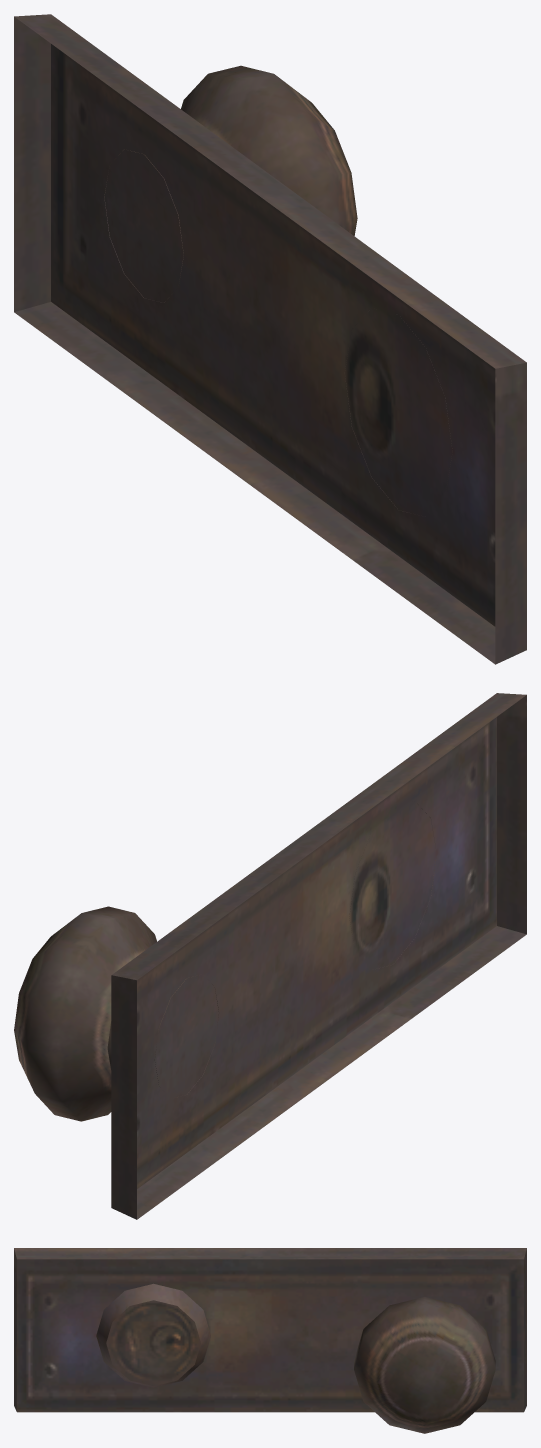
File: p_glo_doorknob1_LOD0.obj
The picture shows the model from 3 angles, top to bottom: view 1: azimuth 30°, elevation 25°; view 2: azimuth 150°, elevation 25°; view 3: azimuth 270°, elevation 25°; orthographic projection. The views are drawn at different scales.
Visible parts, largest first — view 1: mtl_p_glo_doorknob; view 2: mtl_p_glo_doorknob; view 3: mtl_p_glo_doorknob.
Boxes of the visible parts, bbox=[...] form: mtl_p_glo_doorknob: bbox=[14, 14, 526, 664]; mtl_p_glo_doorknob: bbox=[14, 693, 526, 1219]; mtl_p_glo_doorknob: bbox=[14, 1248, 526, 1433].
Size of the model in its own units: 7.95 by 10.45 by 30.84.
